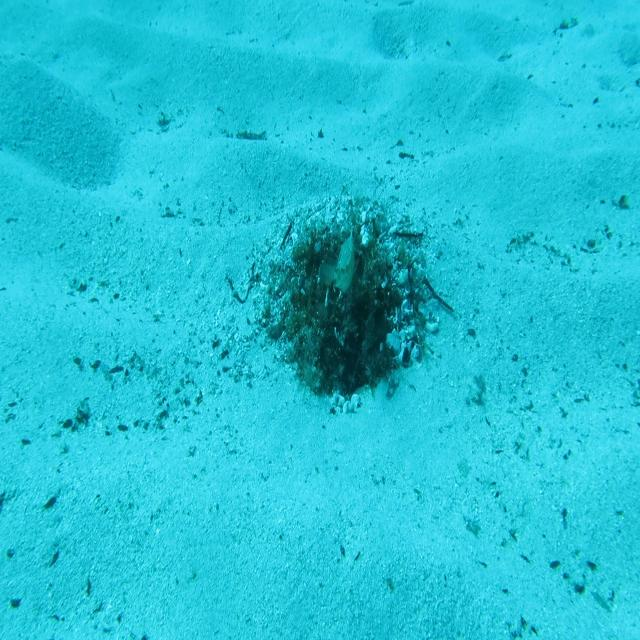NIP_CORE: (315, 227, 359, 298)
core_nest: (332, 235, 382, 282)
nest: (245, 188, 450, 420)
